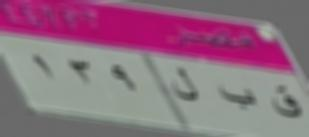1: (30, 50, 59, 89)
3: (66, 57, 94, 91)
9: (106, 60, 138, 99)
baa: (215, 80, 259, 114)
laam: (168, 61, 200, 106)
qaaf: (266, 82, 303, 125)
